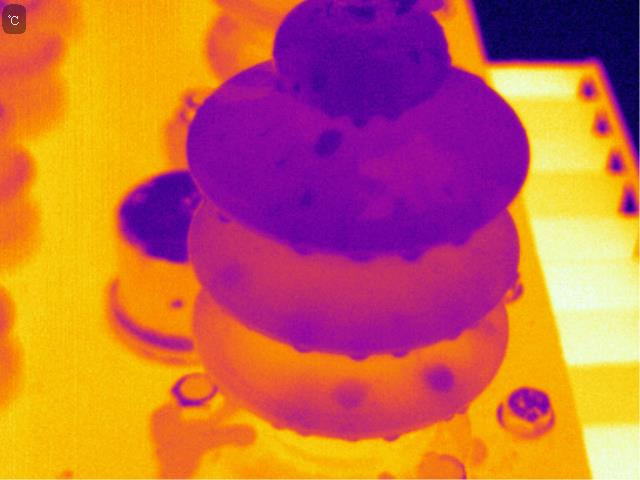Water: (415, 357, 460, 399), (331, 371, 370, 411), (289, 183, 322, 215), (310, 130, 344, 158), (342, 247, 377, 272), (394, 244, 426, 268), (289, 236, 320, 260), (344, 347, 379, 368), (267, 150, 292, 173), (385, 345, 413, 364), (293, 422, 318, 443), (288, 338, 314, 358), (451, 230, 478, 249), (316, 102, 343, 121), (377, 104, 401, 125), (340, 428, 363, 448), (267, 412, 288, 433), (311, 72, 330, 93), (351, 109, 370, 130), (379, 428, 401, 446), (444, 324, 462, 346), (405, 47, 421, 70), (439, 409, 455, 425), (273, 78, 286, 93), (289, 81, 304, 94), (458, 403, 469, 418)
